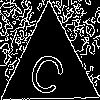C: (24, 41, 72, 100)
